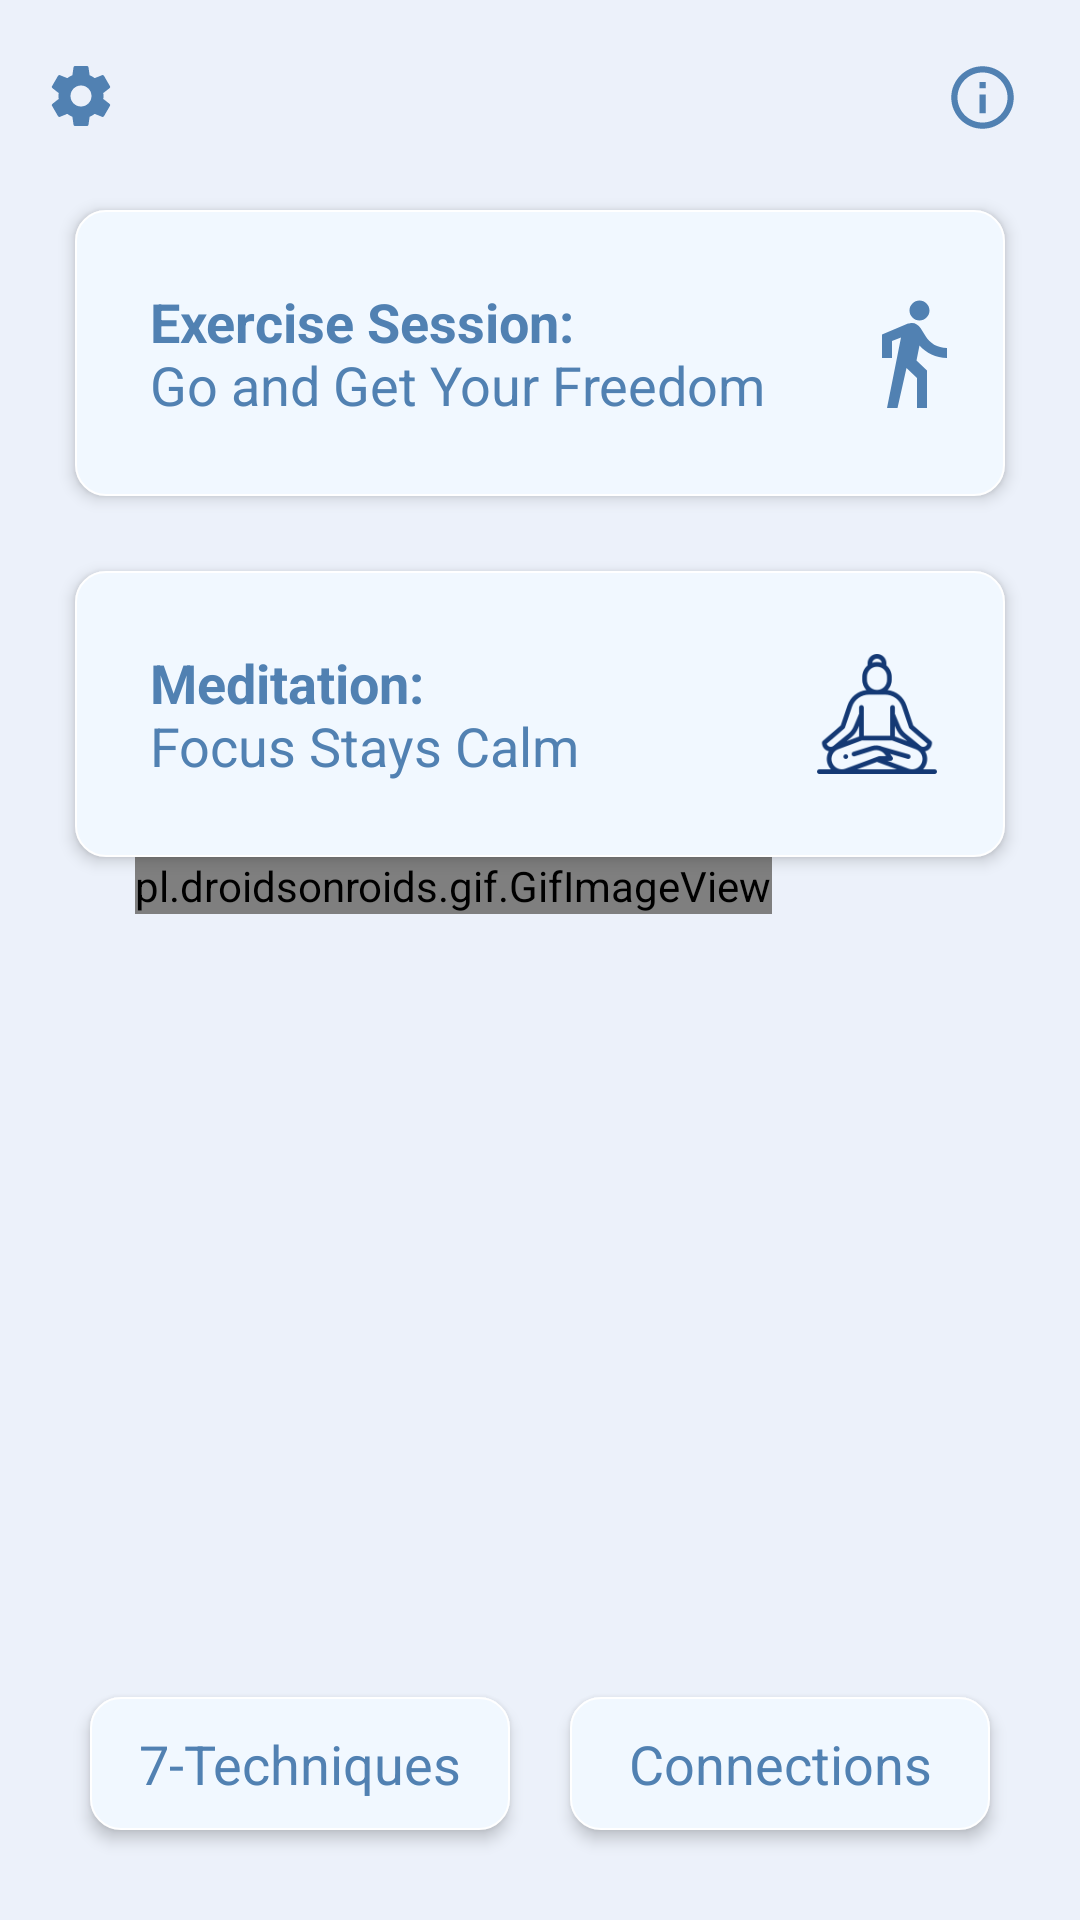

Named icons in this screenshot (1080x1920) and their bounding boxes, [left=x1, top=y1, right=x2, bottom=y2]:
directions walk: [left=882, top=300, right=947, bottom=408]
info: [left=951, top=66, right=1014, bottom=129]
settings: [left=52, top=66, right=110, bottom=126]
